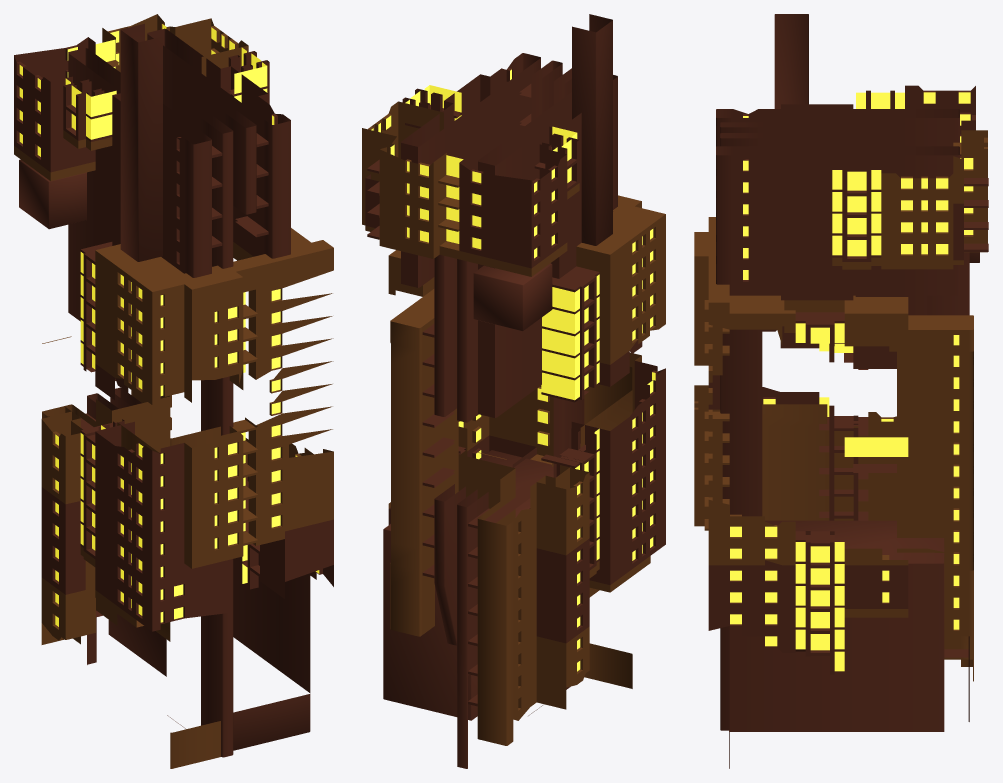
The model's file is Advertising-Hell-Building-Destroyed-V6.fbx.
The picture shows the model from 3 angles, left to right: view 1: azimuth 30°, elevation 25°; view 2: azimuth 150°, elevation 25°; view 3: azimuth 270°, elevation 25°; orthographic projection. The views are drawn at different scales.
Visible parts, largest first — view 1: Advertising-Hell-Building-Destroyed-V6; view 2: Advertising-Hell-Building-Destroyed-V6; view 3: Advertising-Hell-Building-Destroyed-V6.
Part boxes in pixels (<box>): Advertising-Hell-Building-Destroyed-V6: <box>14,14,333,768</box>; Advertising-Hell-Building-Destroyed-V6: <box>362,14,665,768</box>; Advertising-Hell-Building-Destroyed-V6: <box>694,14,988,768</box>.
Size of the model in its own units: 1707 by 6070 by 2363.
